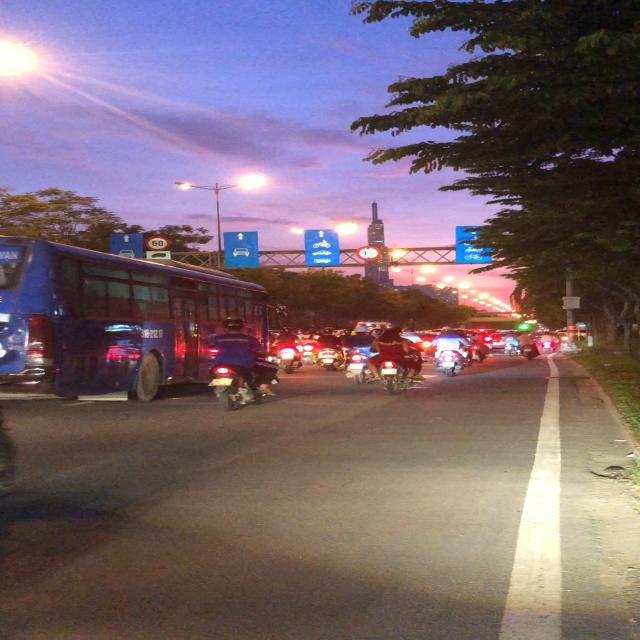Bien bao toc do toi da cho phep: (141, 234, 174, 252)
